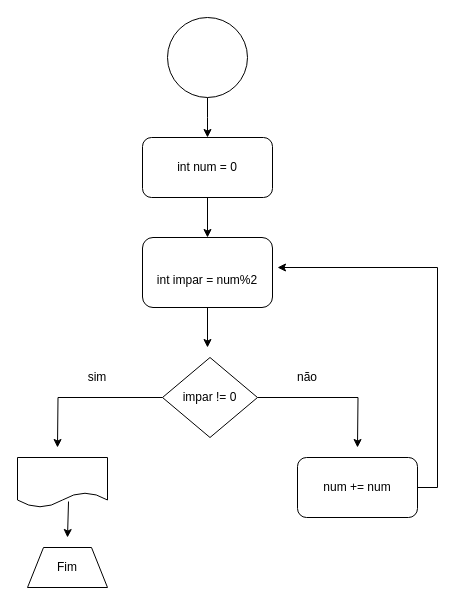
Image size: 463x605. Some labels were removed from this diagram. The box of each missing label's shape, as (x1, y1, x2, y2) in pixels:
Imprime impar: (16, 456, 108, 508)
Inicio: (166, 16, 248, 98)
